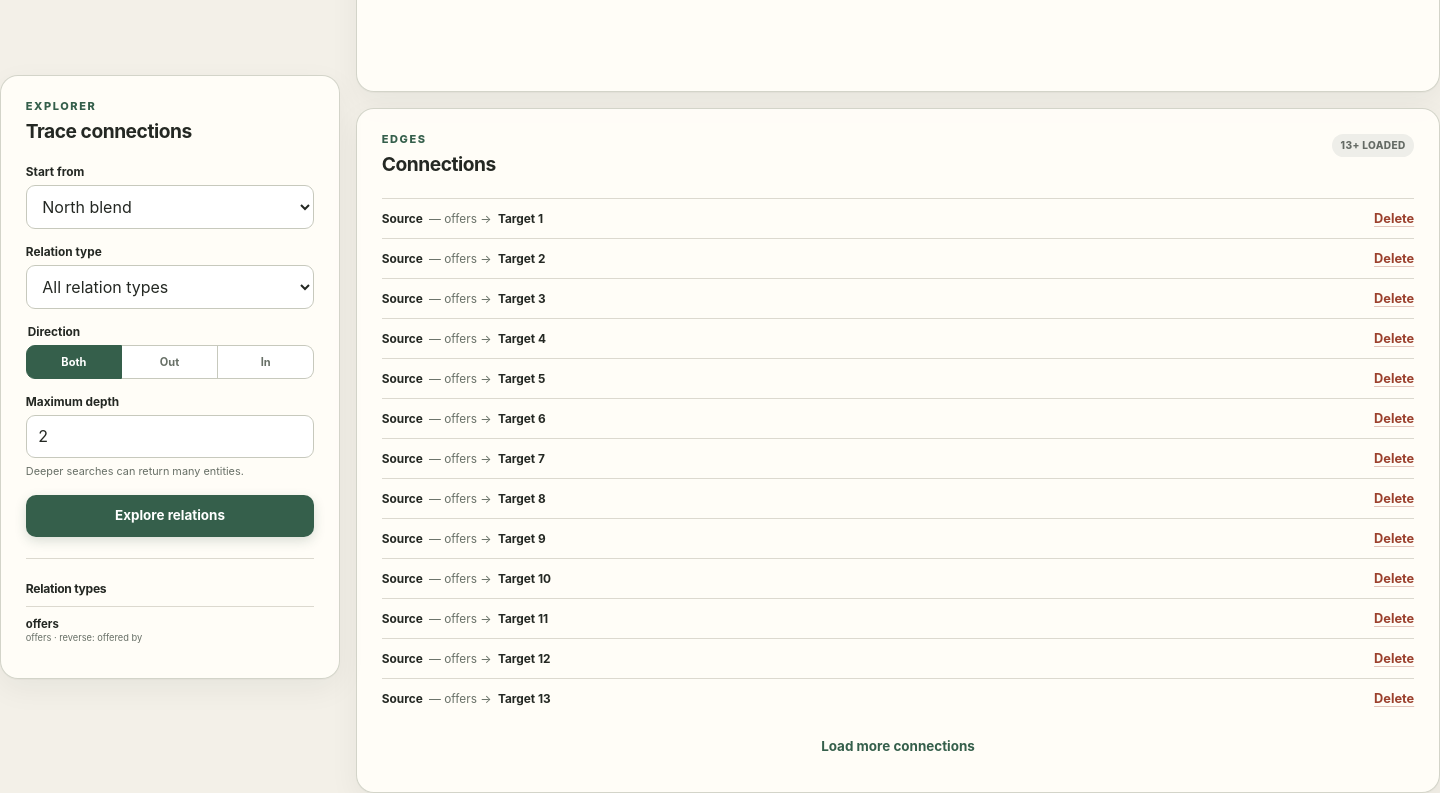
Test: paged workflows › shows every edge in a page and loads the next relation page
(page scrolled)
Expected: the text "Target 13" is shown, [498, 692, 551, 706]
Expected: the text "Target 14" is not shown
Click the button "Load more connections" at (898, 746), box [382, 725, 1414, 767]
(page scrolled)
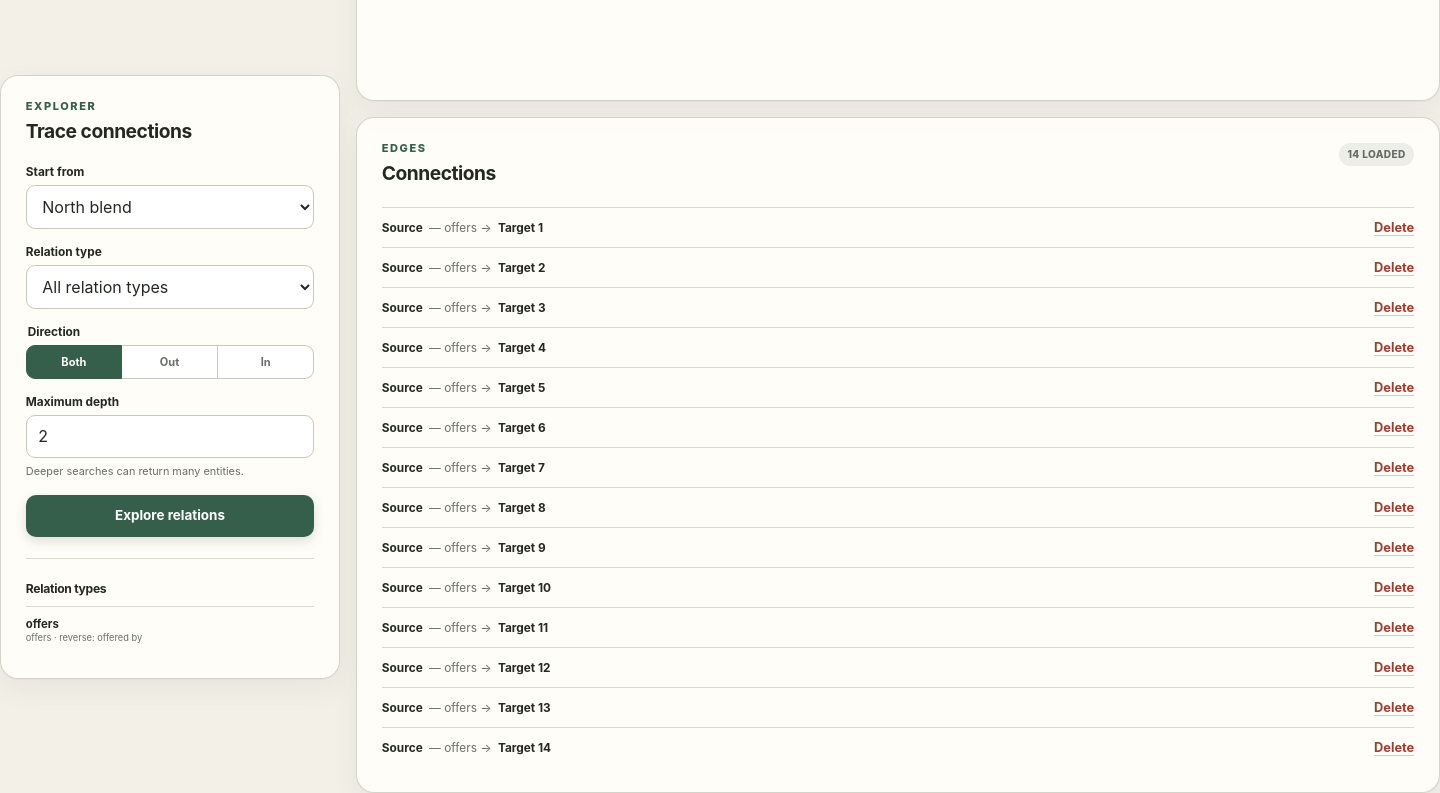
Now the text "Target 14" is shown, box [498, 740, 551, 754]
Now the number of buttons "Delete" is 14
